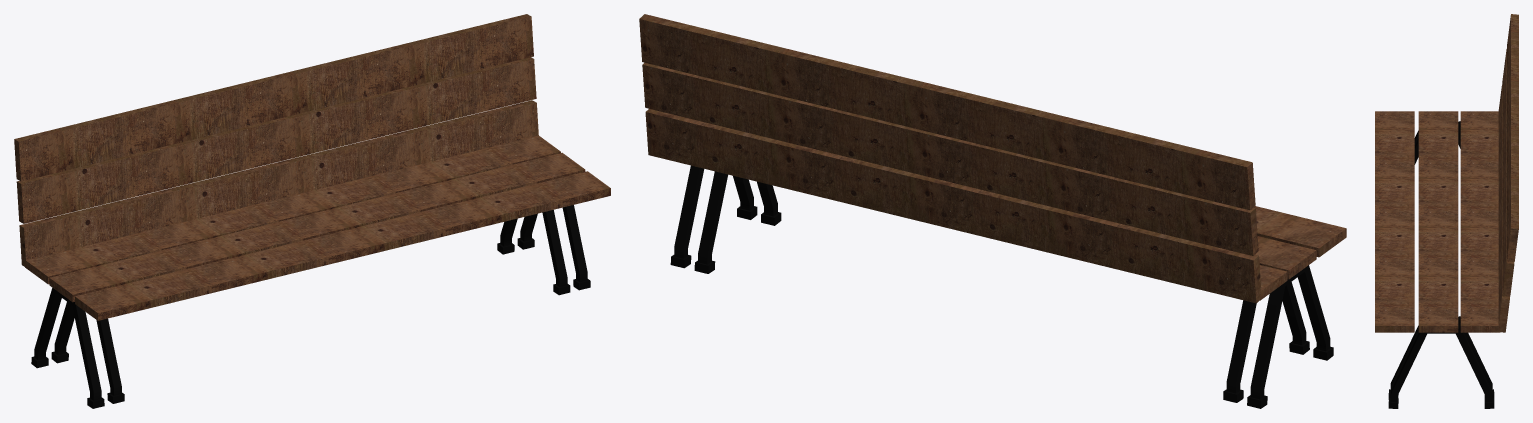
The model's file is bench_wood.fbx.
3 renders of one model, left to right at view 1: azimuth 30°, elevation 25°; view 2: azimuth 150°, elevation 25°; view 3: azimuth 270°, elevation 25°, orthographic. The views are drawn at different scales.
Parts seen in each view (by area): view 1: bench; view 2: bench; view 3: bench.
Boxes of the visible parts, <box> form: bench: <box>14,14,610,408</box>; bench: <box>639,14,1346,408</box>; bench: <box>1375,14,1518,408</box>.
Bounding box in the file's own units: 2.23 × 0.8984 × 0.6314.
